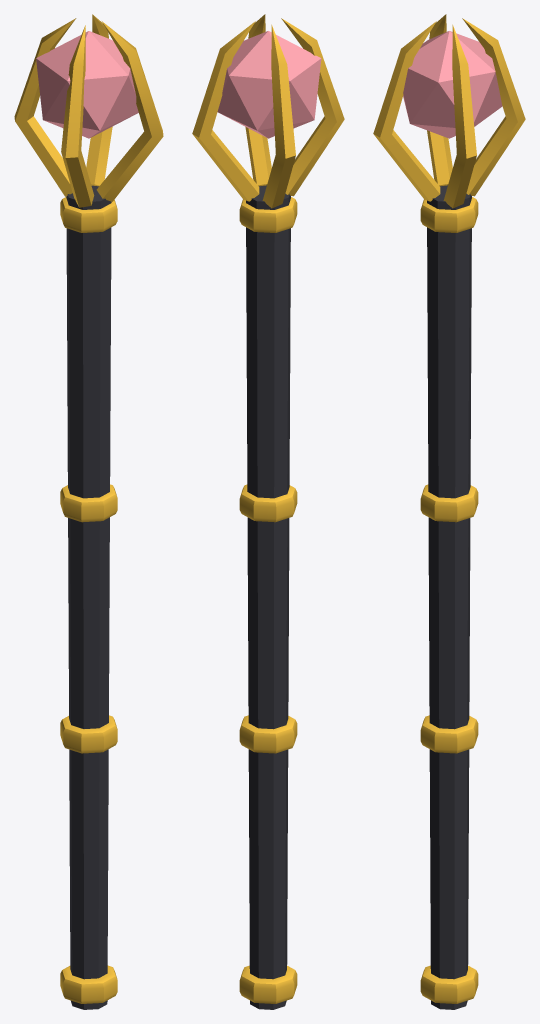
The model's file is RubyStaff.fbx.
3 views of the same model, side by side, from view 1: azimuth 30°, elevation 25°; view 2: azimuth 150°, elevation 25°; view 3: azimuth 330°, elevation 25° (orthographic).
Visible parts, largest first — view 1: RubyStaff; view 2: RubyStaff; view 3: RubyStaff.
Part boxes in pixels (bbox=[...]): RubyStaff: bbox=[14, 14, 163, 1009]; RubyStaff: bbox=[192, 14, 344, 1009]; RubyStaff: bbox=[373, 14, 525, 1009].
Size of the model in its own units: 0.5508 by 5.1 by 0.5508.
Materials: 1 (1 with a texture image).
